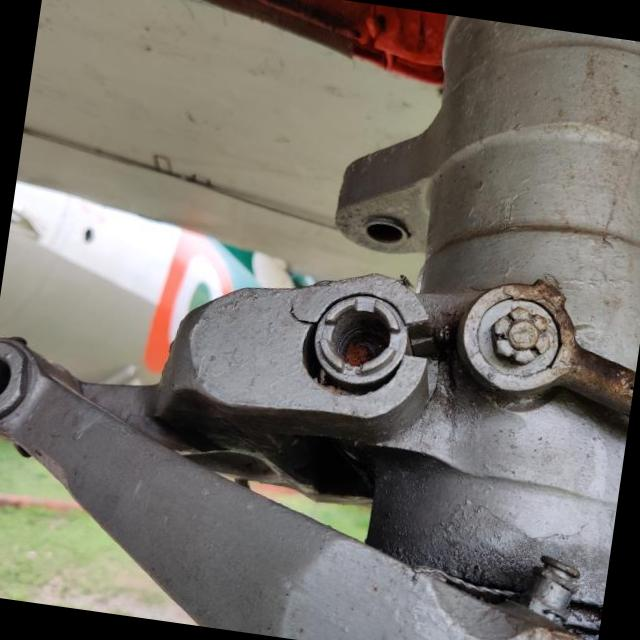Crack: (286, 296, 320, 329)
